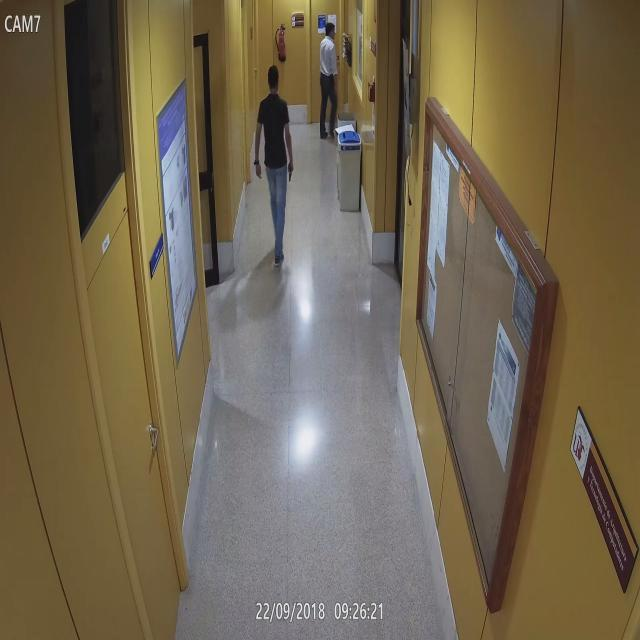weapon: (287, 159, 296, 183)
